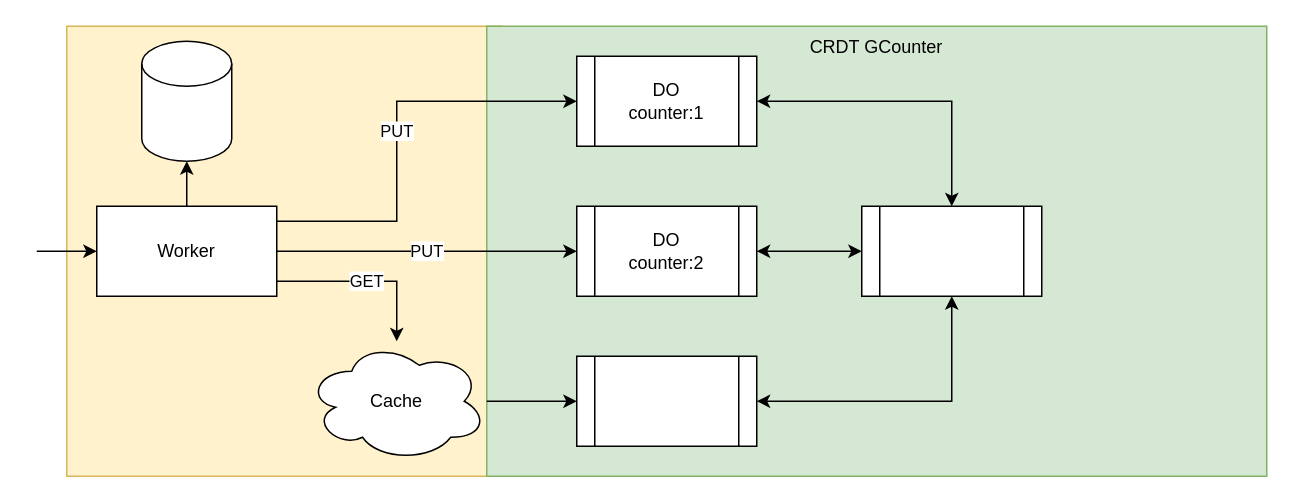
This 1293x503 diagram has some shape labels left out. Each missing label, with the centre of its shape:
"DO counter" goes at (951,250).
"DO counter:3" goes at (666,400).
"KV Config" goes at (186,100).
